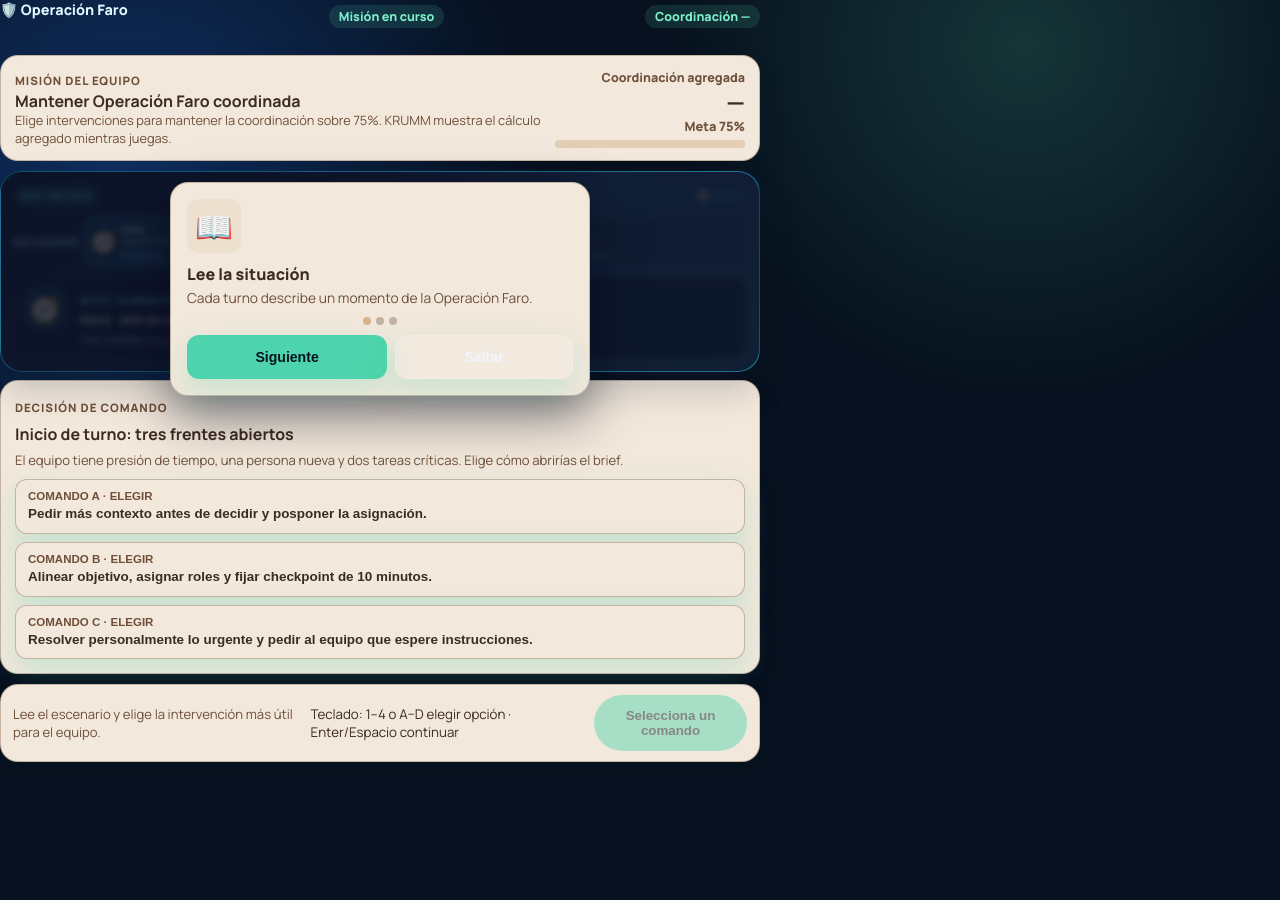
Test: TeamCoordinationPostulationTask › supports keyboard option selection and advance hint (G.5 / G1-P01)
Click the button "Saltar": (484, 358) [395,336,573,380]
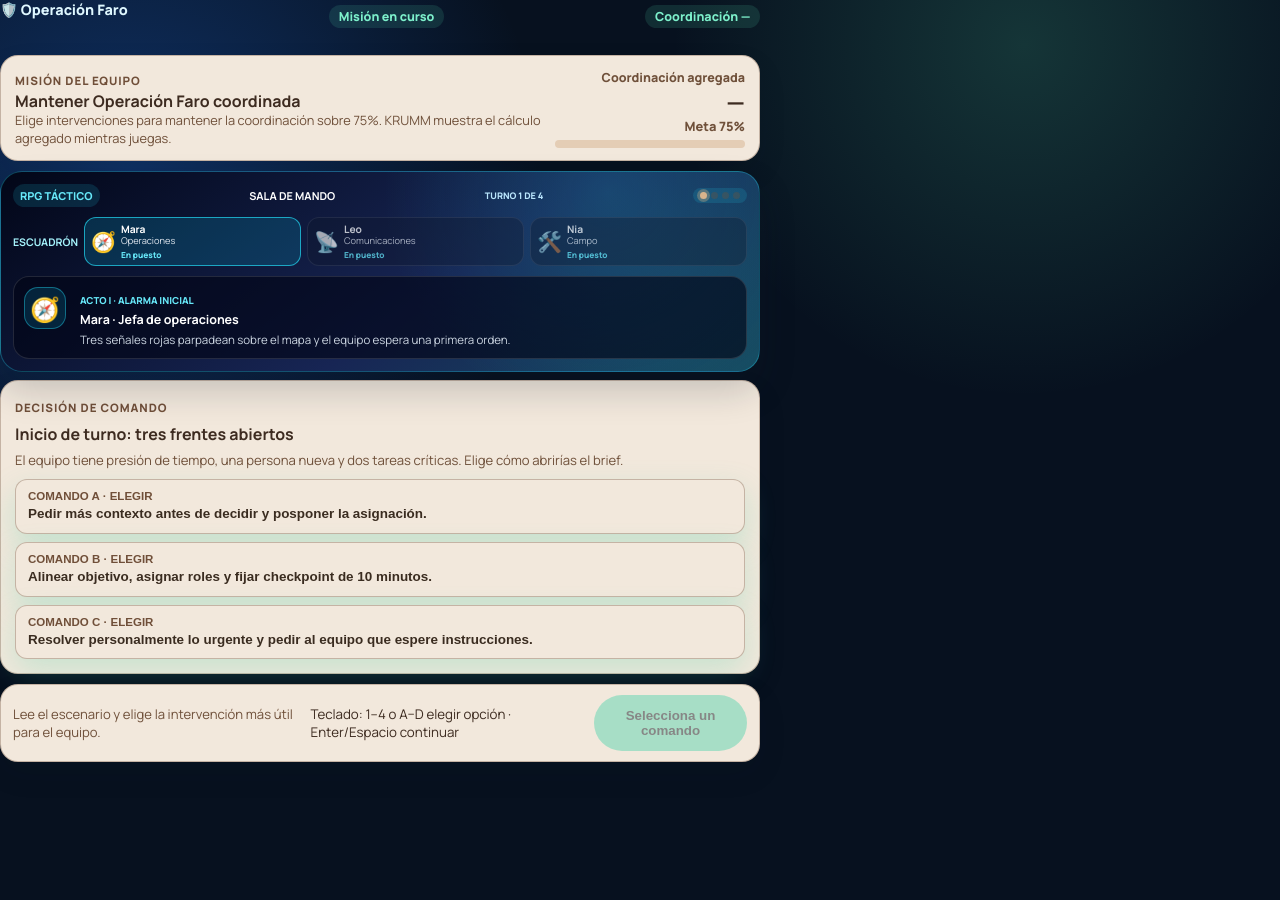
Expected: the text "Teclado: 1–4 o A–D elegir opción · Enter/Espacio continuar" is shown, [311,705,511,741]
Press 1 in the element with test id "team-task-root", box [0,0,760,762]
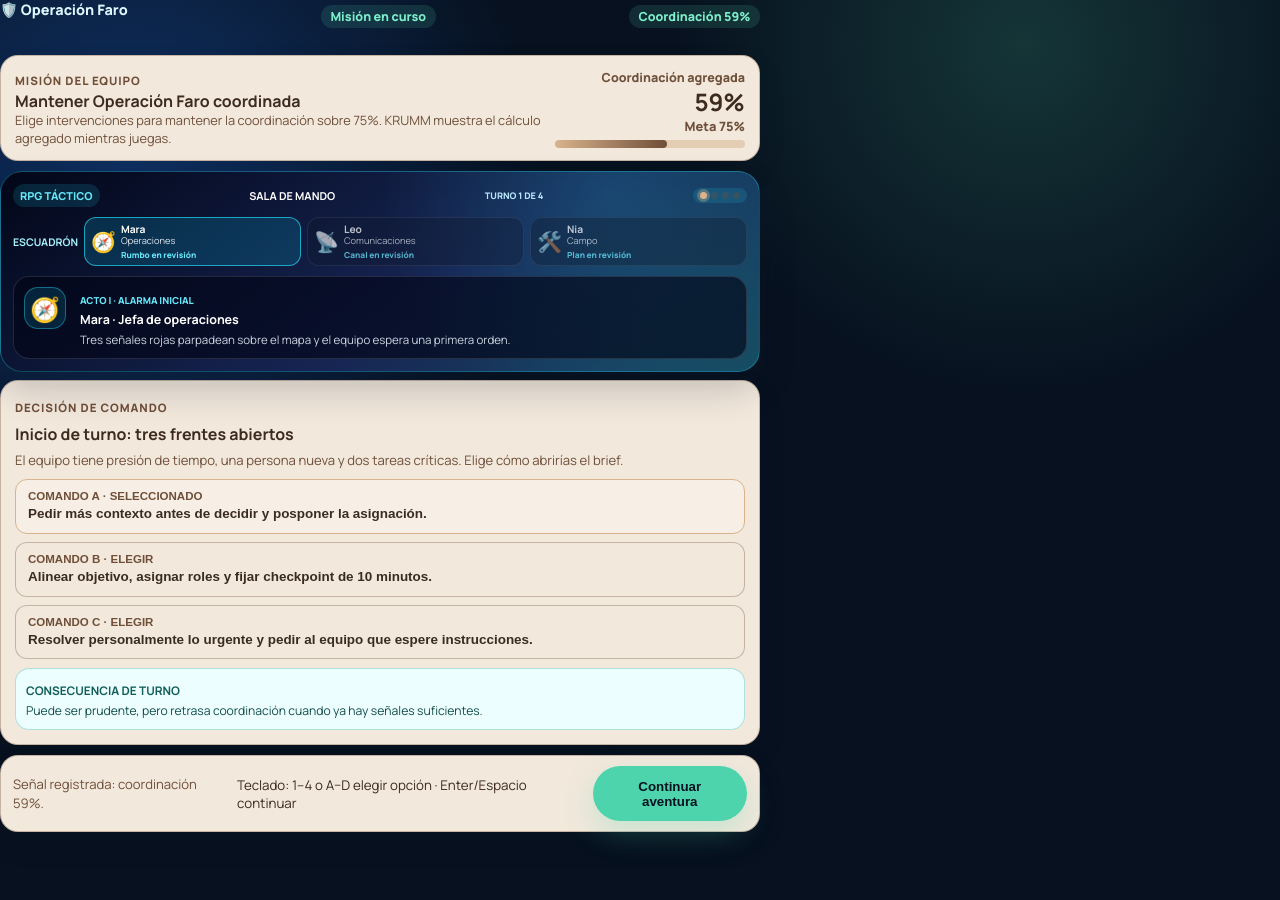
Expected: the text "Consecuencia de turno" is shown, [26,682,180,700]
